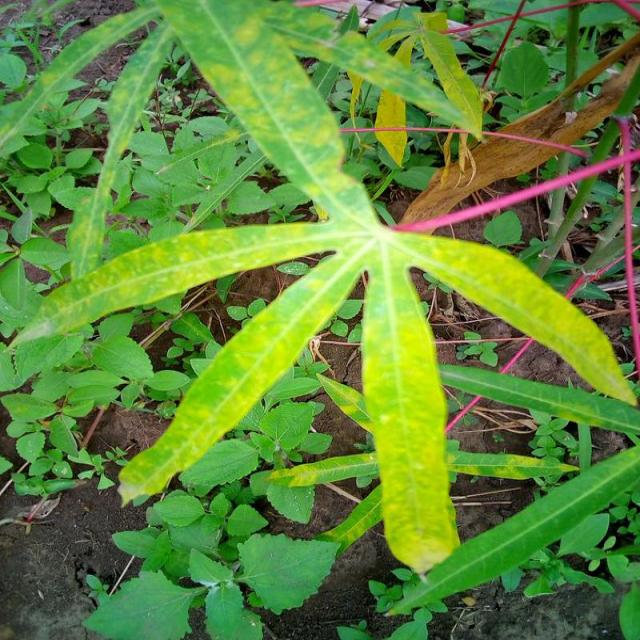cassava leaf: (8, 0, 637, 582)
